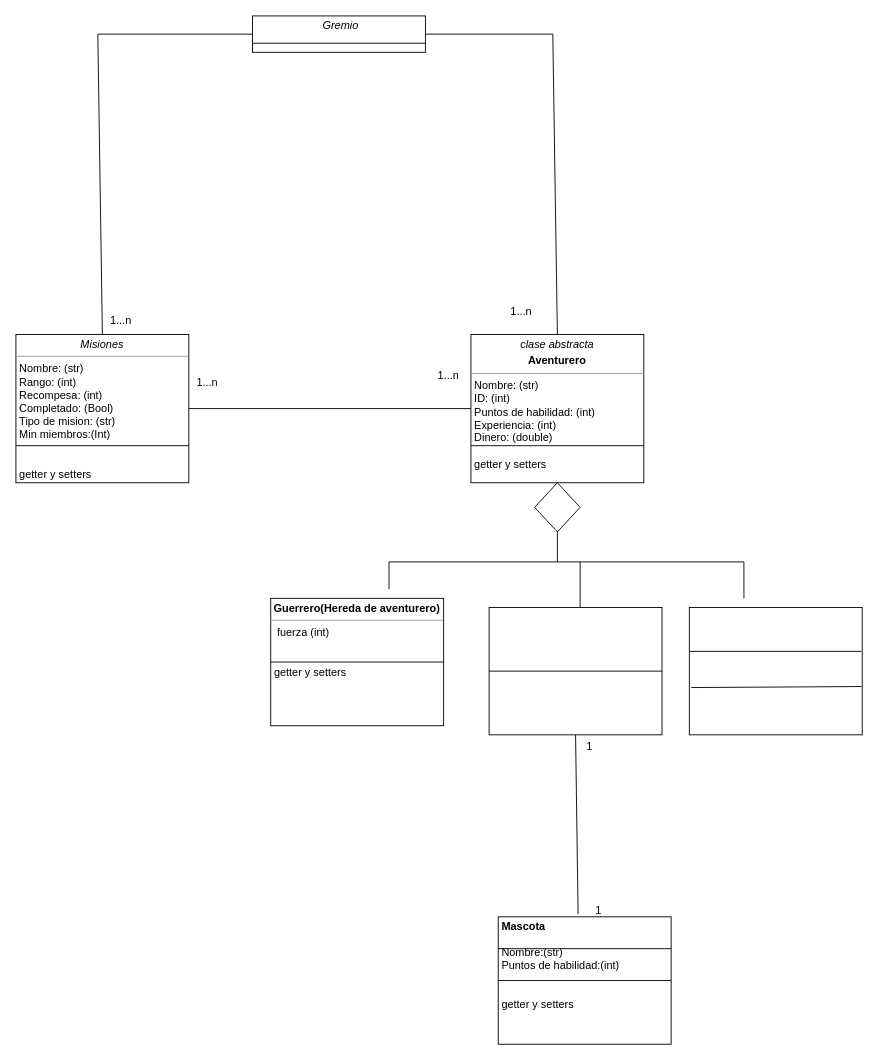
The diagram is 879 pixels wide and 1060 high, and some of its shapes have lost their labels. Each missing label, with the box of its shape:
Mago (Hereda de aventurero) Mana: (int) getter y setter: (688, 607, 862, 735)
Ranger (Hereda de aventurero) Mascota(mascota) getter y setters: (488, 607, 662, 735)
